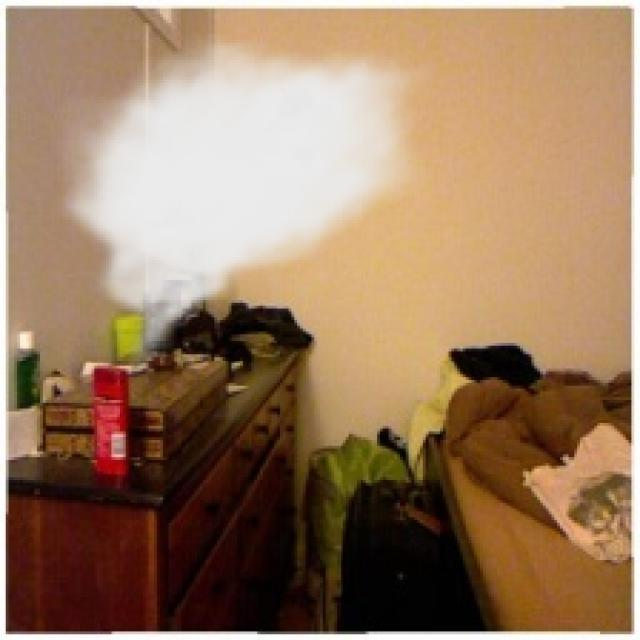Smoke: (52, 31, 437, 380)
